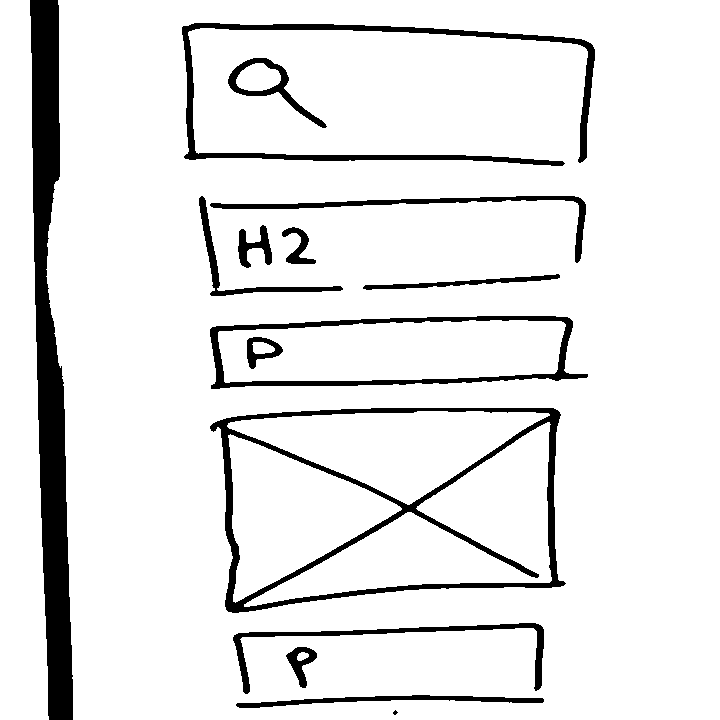heading2: (187, 187, 594, 301)
paragraph: (205, 312, 593, 394), (228, 619, 556, 712)
picture: (208, 401, 576, 614)
search bar: (172, 19, 601, 180)
